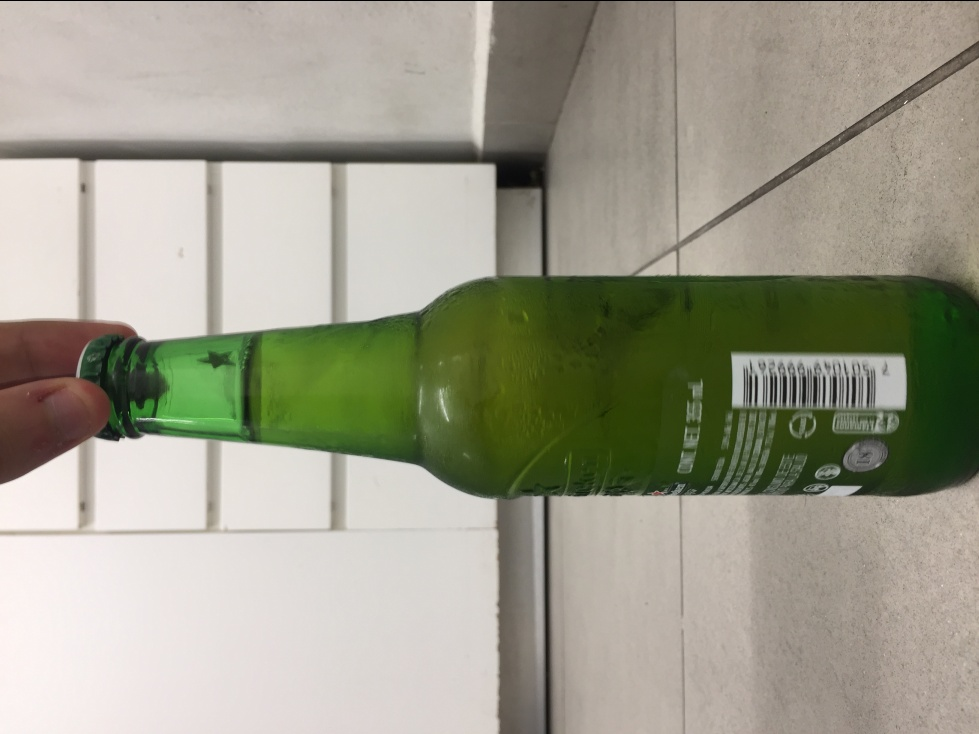heineken: (69, 273, 979, 503)
